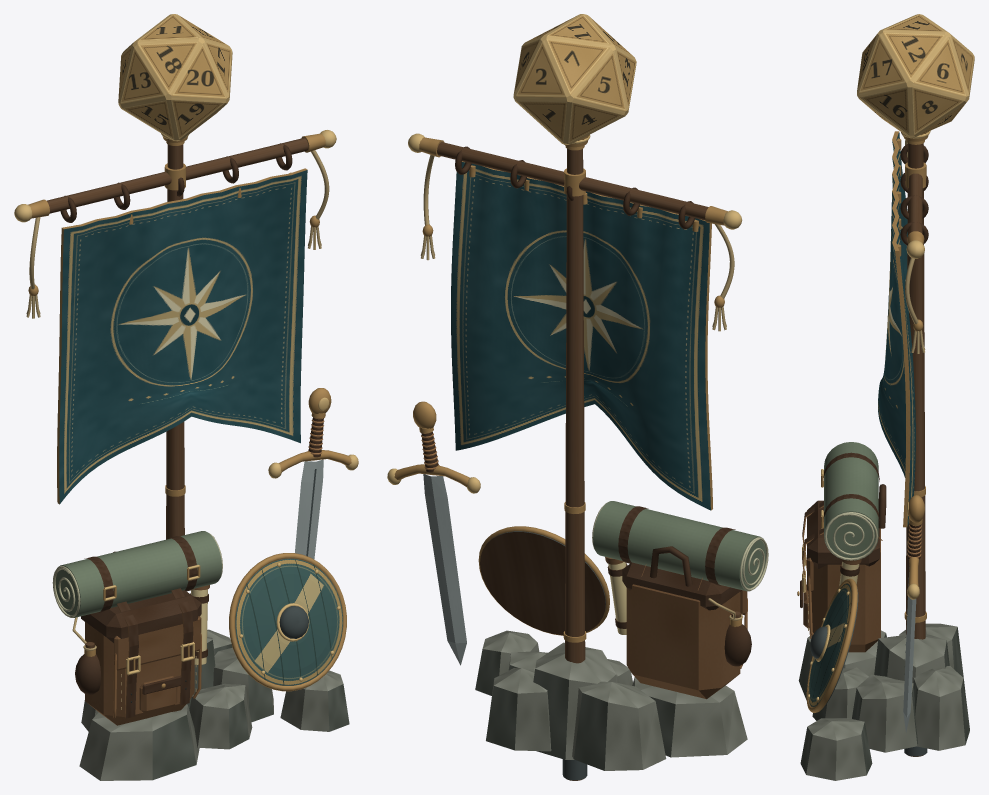
The model's file is Bigane_Party_Marker.glb.
3 renders of one model, left to right at view 1: azimuth 30°, elevation 25°; view 2: azimuth 150°, elevation 25°; view 3: azimuth 270°, elevation 25°, orthographic. The views are drawn at different scales.
Visible parts, largest first — view 1: Bigane_Party_Marker; view 2: Bigane_Party_Marker; view 3: Bigane_Party_Marker.
Boxes of the visible parts, left/top/right/bottom form: Bigane_Party_Marker: left=14, top=14, right=358, bottom=780; Bigane_Party_Marker: left=387, top=14, right=768, bottom=780; Bigane_Party_Marker: left=797, top=14, right=974, bottom=780.
Bounding box in the file's own units: 3.26 × 6.6 × 1.46.
6 materials, 6 textured.
